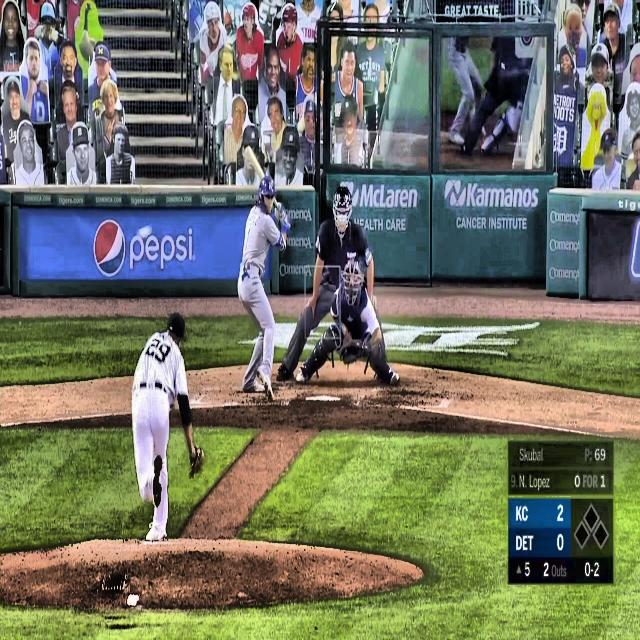baseball: (137, 223, 152, 241)
